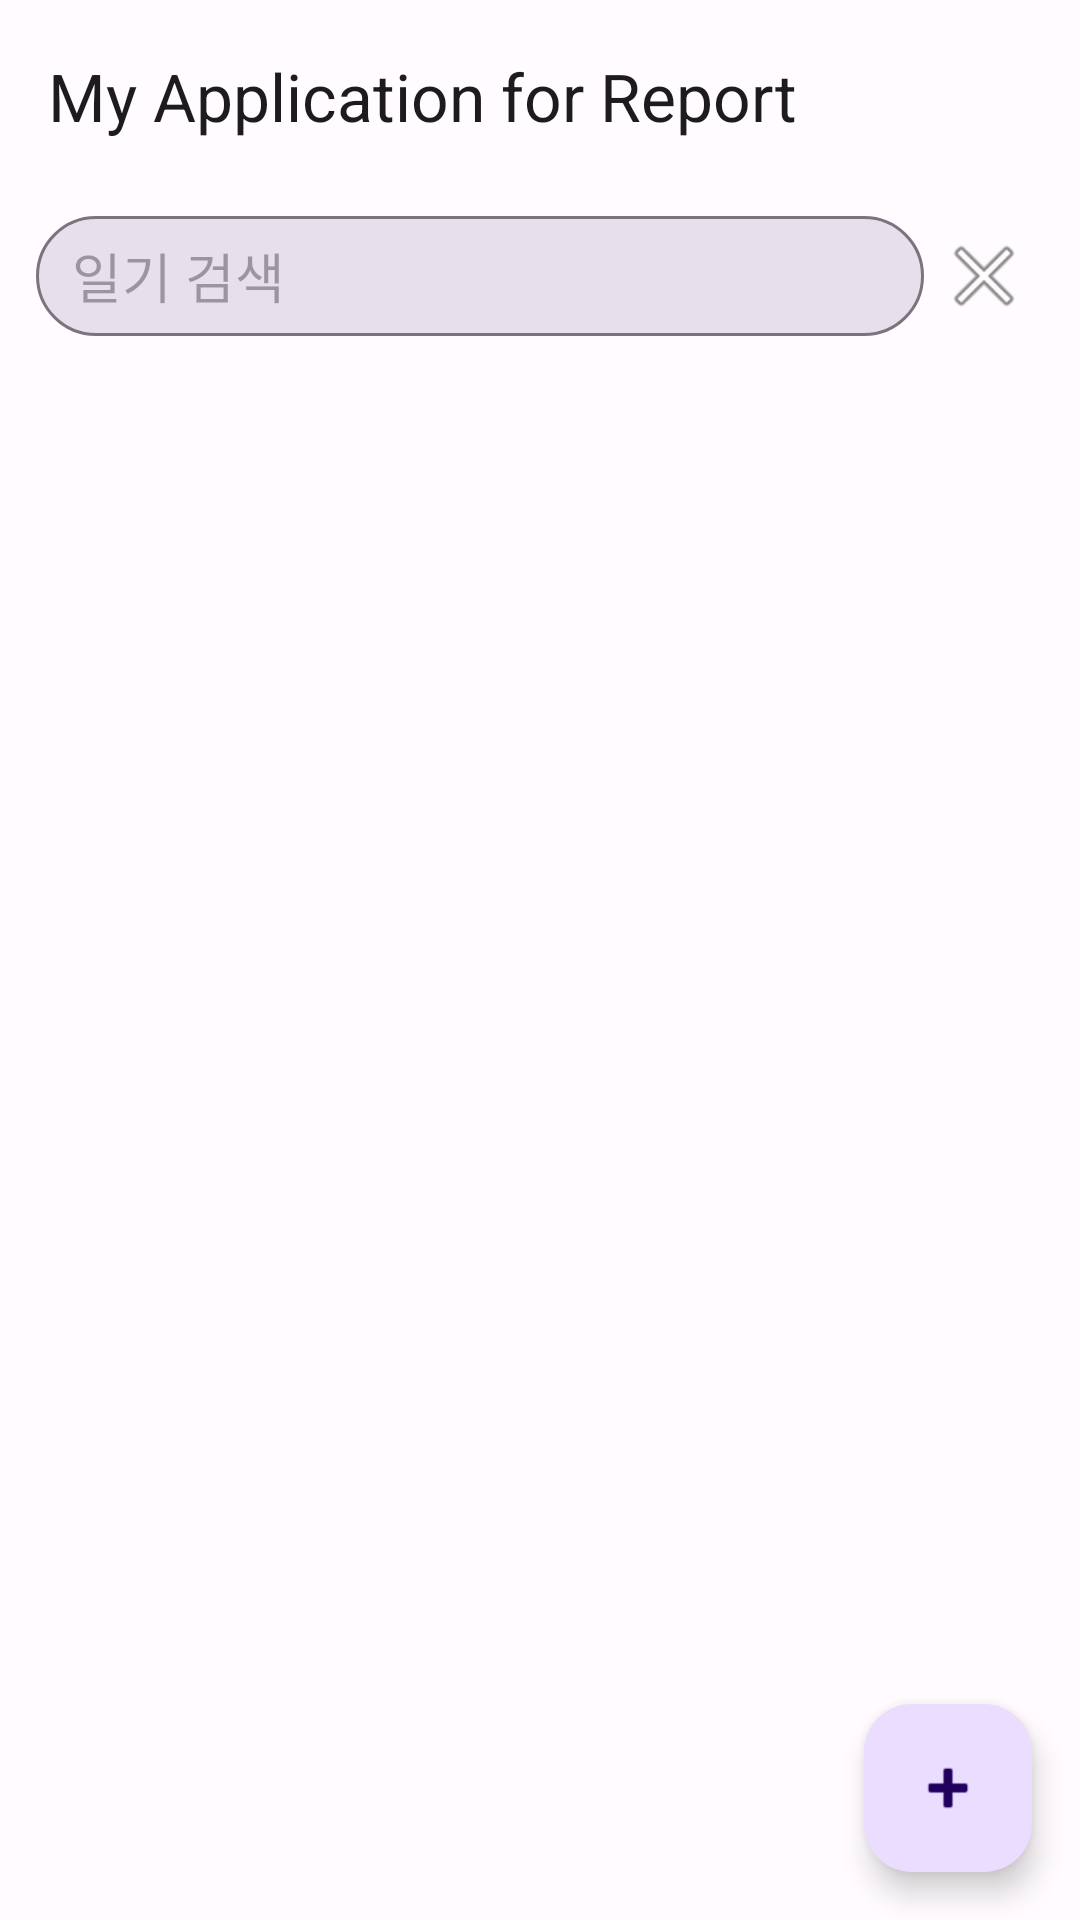

Where to tap for icons on this 1080px x 1920px app screen, as [x,y]:
검색 지우기: [984,276]
새 일기 작성: [948,1788]
